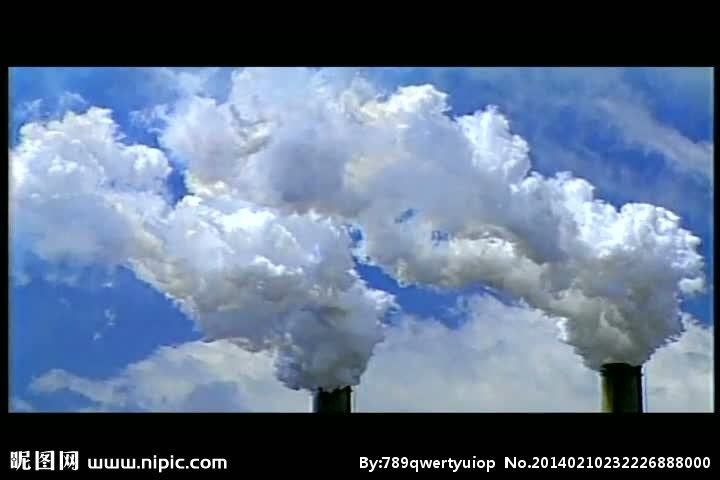dust: (352, 90, 705, 382), (71, 193, 393, 397)
